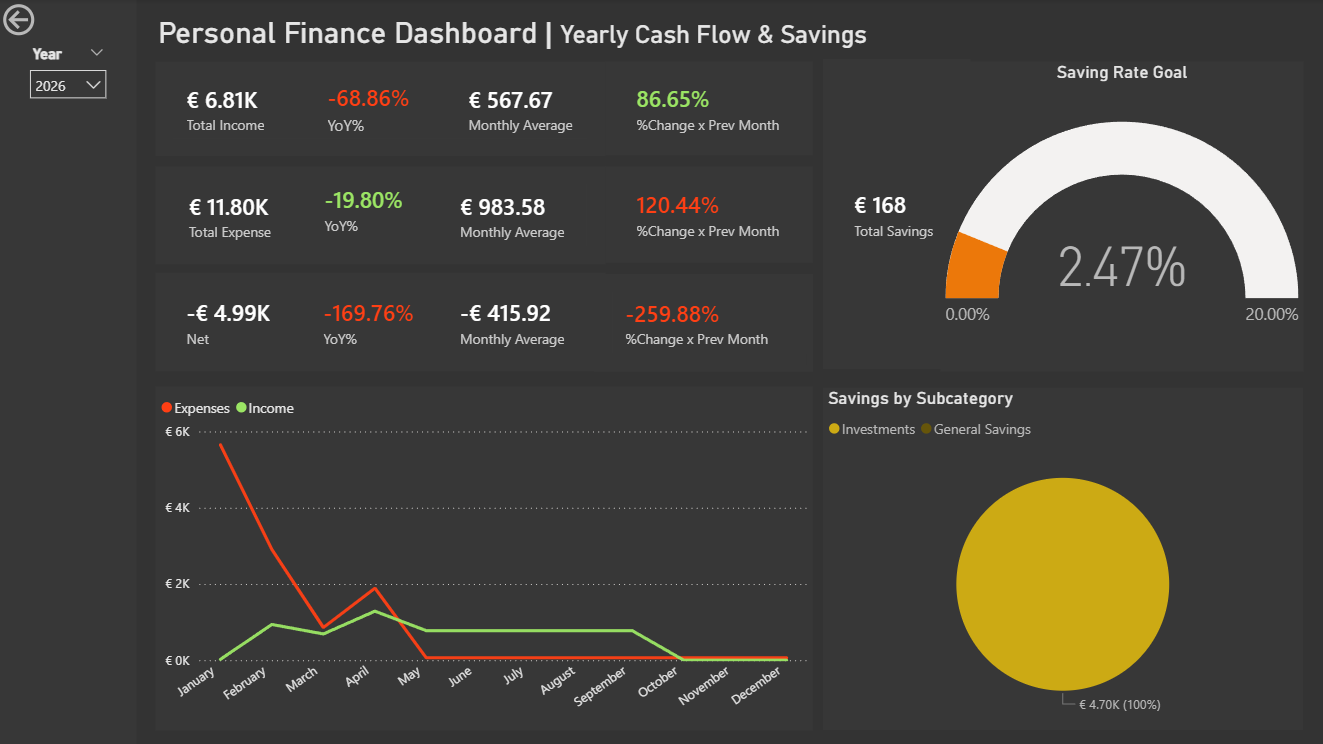

What the dashboard file says about the page in this screenshot:
{"tool":"powerbi","page":{"name":"Cash Flow & Savings","canvas":[1280,720],"ordinal":0},"visuals":[{"type":"shape","box":[0,0,134,719.8],"z":0},{"type":"slicer","fields":{"Values":["Full Table.Date.Variation.Date Hierarchy.Year"]},"box":[20,39.9,94.1,75.5],"z":1000},{"type":"lineChart","fields":{"Category":["Full Table.Date.Variation.Date Hierarchy.Month"],"Y":["Full Table.Total Expense","Full Table.Total Income"]},"box":[152.5,373.5,634.3,332.1],"z":2000},{"type":"actionButton","box":[0,0,100,40],"z":3000},{"type":"cardVisual","fields":{"Data":["Full Table.Total Income","Full Table.Total Income YoY%","Full Table.Total Income average per Date"]},"box":[152.5,59.9,434.7,91.2],"z":4000},{"type":"cardVisual","fields":{"Data":["Full Table.Total Expense","Full Table.Total Expense YoY%","Full Table.Total Expense average per Date"]},"box":[152.5,161.1,434.7,94.1],"z":5000},{"type":"cardVisual","fields":{"Data":["Full Table.Net","Full Table.Net YoY%","Full Table.Net average per Date"]},"box":[152.5,263.7,434.7,95.5],"z":6000},{"type":"textbox","box":[149.6,10.9,760.1,49.5],"z":7000},{"type":"pieChart","title":"Savings by Subcategory","fields":{"Y":["Sum(Full Table.Amount)"],"Category":["Full Table.Subcategory"]},"box":[796.8,374.9,463.3,330.7],"z":8000},{"type":"cardVisual","fields":{"Data":["Full Table.Total Savings"]},"box":[796.8,58.4,142.5,299.3],"z":9000},{"type":"gauge","title":"Saving Rate Goal","fields":{"Y":["Full Table.Saving Rate"],"MaxValue":["Full Table.Saving Rate Goal"]},"box":[909.4,59.9,350.6,299.3],"z":10000},{"type":"cardVisual","fields":{"Data":["Full Table.Total Income MoM%"]},"box":[586.3,60.3,200.3,90.5],"z":11000},{"type":"cardVisual","fields":{"Data":["Full Table.Total Expense MoM%"]},"box":[586.3,161.7,200.3,92.9],"z":12000},{"type":"cardVisual","fields":{"Data":["Full Table.Net MoM%"]},"box":[575.5,265.4,211.1,94.1],"z":13000}]}

Visuals, with their boxes in screenshot pixels (x1, y1, x2, y2), scaled from the page's 1280x720 canvas onto the 1323x744 screenshot:
shape: [0, 0, 139, 743]
slicer - Full Table.Date.Variation.Date Hierarchy.Year: [21, 41, 118, 119]
lineChart - Full Table.Date.Variation.Date Hierarchy.Month x Full Table.Total Expense: [158, 386, 813, 729]
actionButton: [0, 0, 103, 41]
cardVisual - Full Table.Total Income x Full Table.Total Income YoY%: [158, 62, 607, 156]
cardVisual - Full Table.Total Expense x Full Table.Total Expense YoY%: [158, 166, 607, 264]
cardVisual - Full Table.Net x Full Table.Net YoY%: [158, 272, 607, 371]
textbox: [155, 11, 940, 62]
"Savings by Subcategory" pieChart: [824, 387, 1302, 729]
cardVisual - Full Table.Total Savings: [824, 60, 971, 370]
"Saving Rate Goal" gauge: [940, 62, 1302, 371]
cardVisual - Full Table.Total Income MoM%: [606, 62, 813, 156]
cardVisual - Full Table.Total Expense MoM%: [606, 167, 813, 263]
cardVisual - Full Table.Net MoM%: [595, 274, 813, 371]
